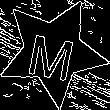M_N: (26, 23, 80, 80)
